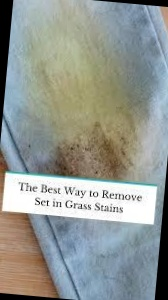earth: (18, 29, 150, 180)
